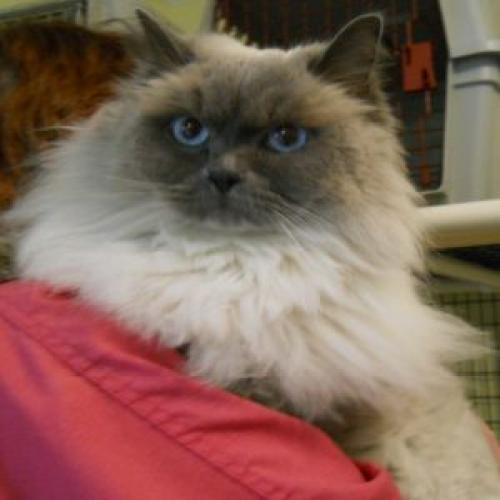ragdoll: (120, 7, 397, 253)
